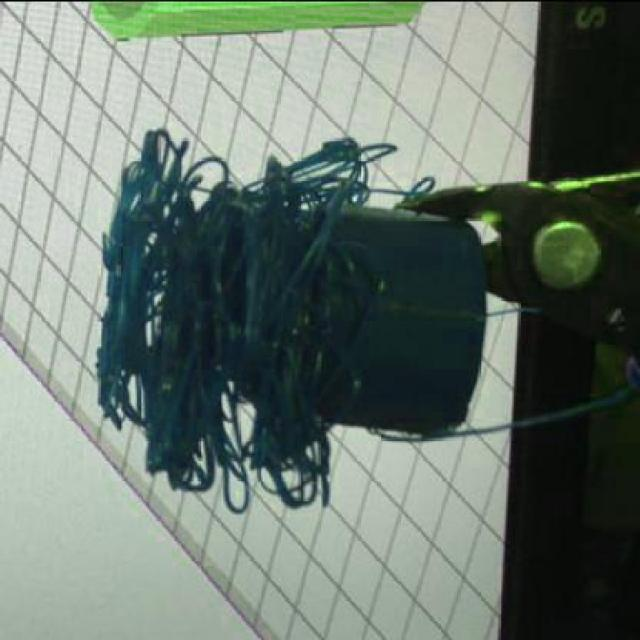Spaghetti: (89, 119, 440, 518)
